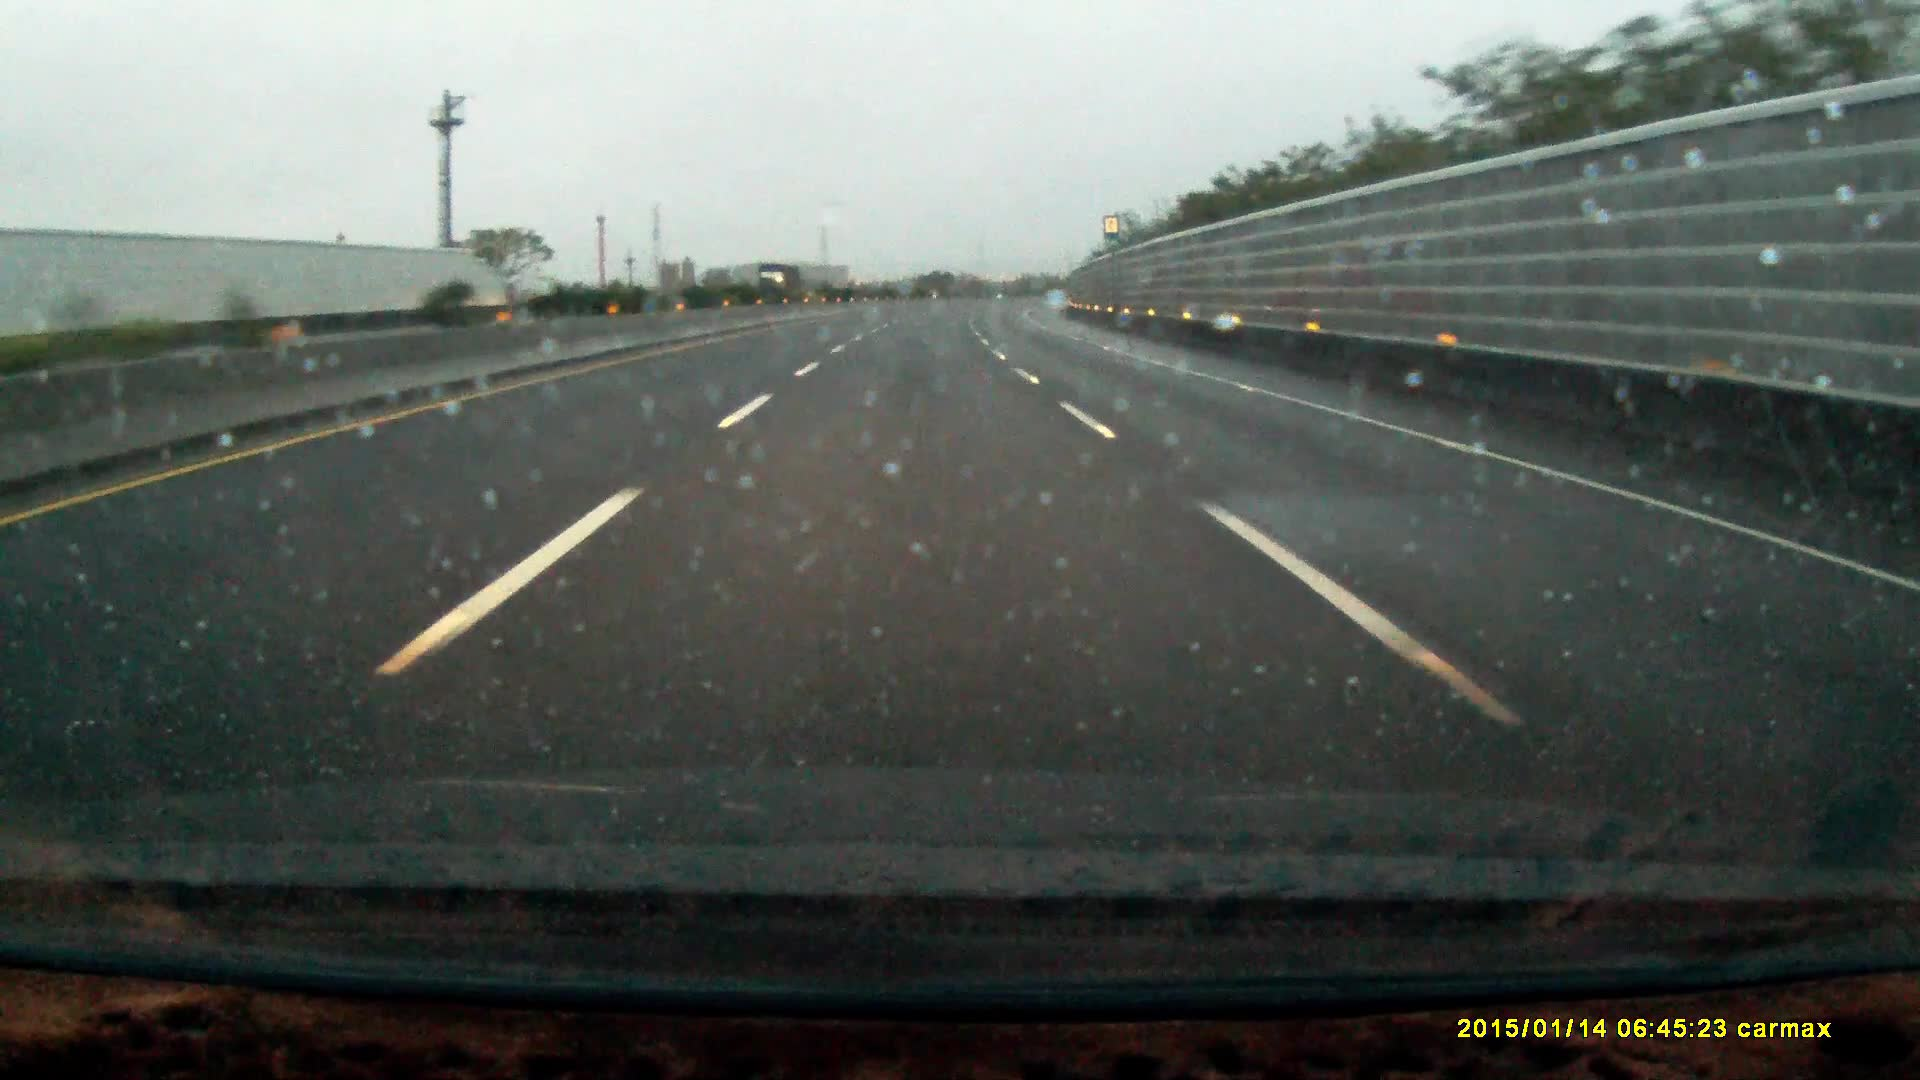vehicle: (756, 266, 804, 302)
